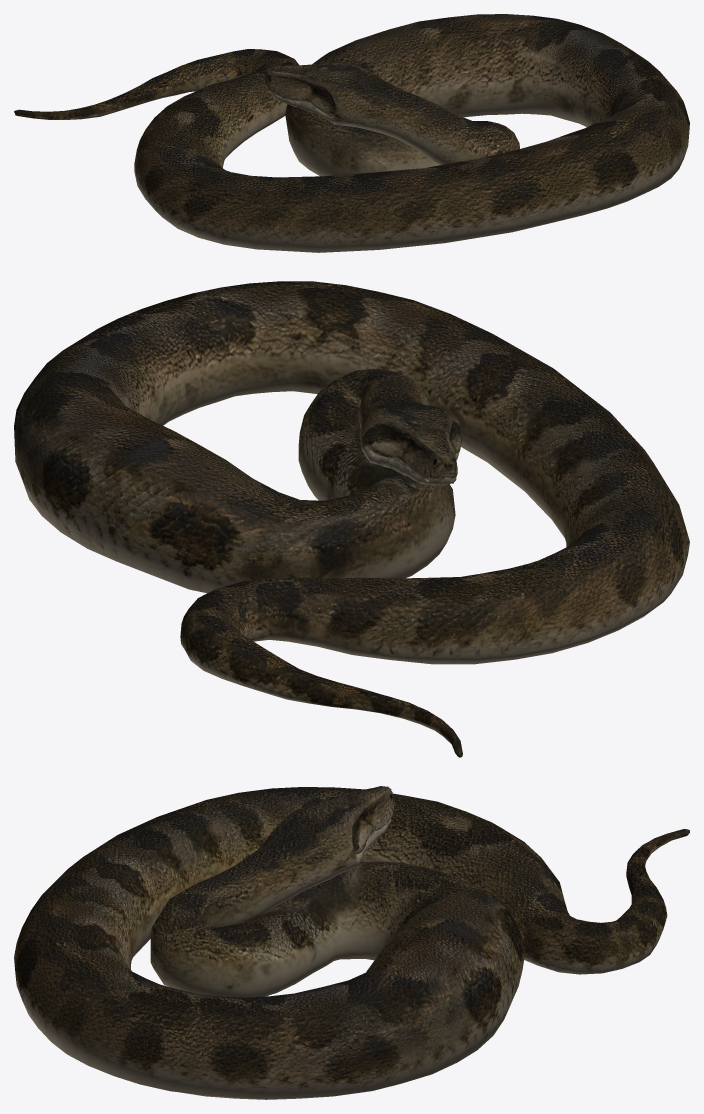
Rendered from coiled-snake-a-v01.glb.
3 renders of one model, top to bottom at view 1: azimuth 30°, elevation 25°; view 2: azimuth 150°, elevation 25°; view 3: azimuth 270°, elevation 25°, orthographic. The views are drawn at different scales.
Parts seen in each view (by area): view 1: tripo_node_cffeaa82-b97a-4634-8478-2a31b145e057; view 2: tripo_node_cffeaa82-b97a-4634-8478-2a31b145e057; view 3: tripo_node_cffeaa82-b97a-4634-8478-2a31b145e057.
Boxes of the visible parts, x1,y1,x2,y2 form: tripo_node_cffeaa82-b97a-4634-8478-2a31b145e057: (14, 14, 689, 252); tripo_node_cffeaa82-b97a-4634-8478-2a31b145e057: (14, 281, 689, 757); tripo_node_cffeaa82-b97a-4634-8478-2a31b145e057: (14, 786, 689, 1099).
Bounding box in the file's own units: 0.65 × 0.1463 × 0.6475.
Materials: 1 (1 with a texture image).
